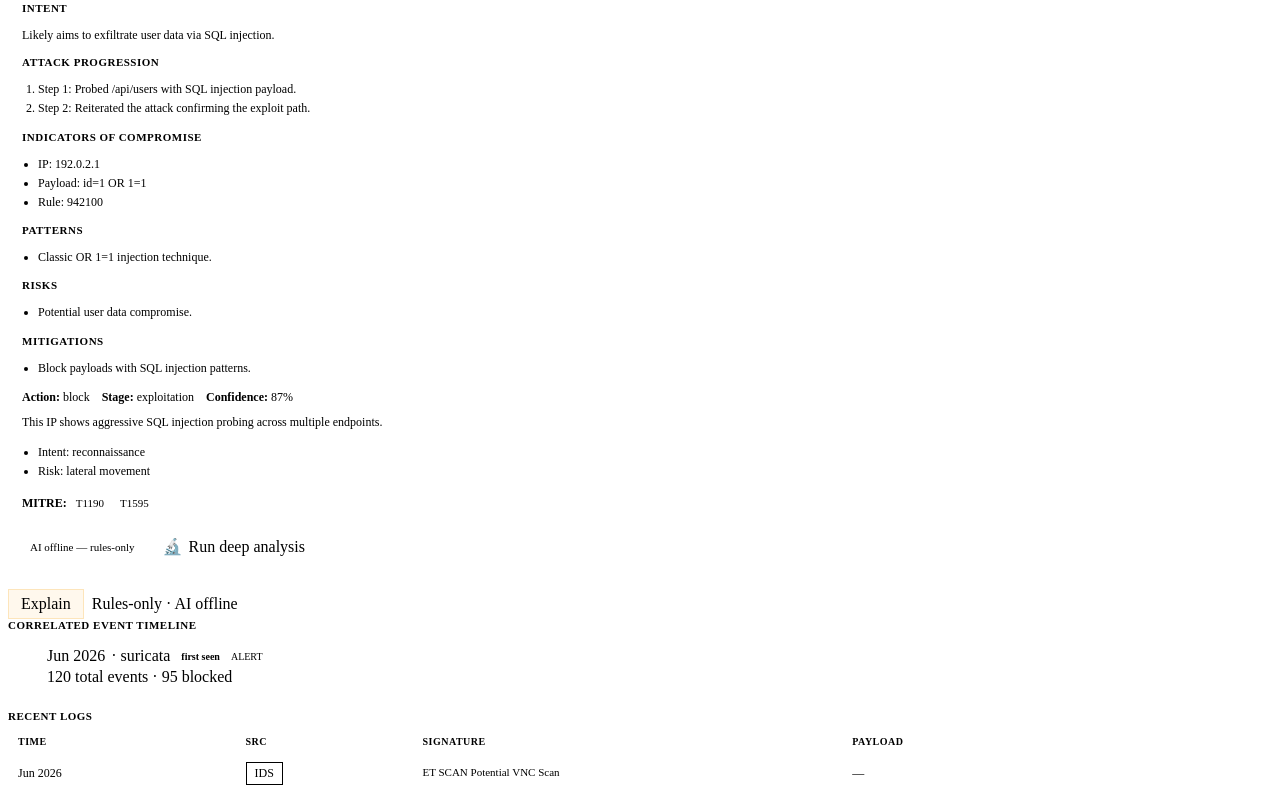
Scenario: IpPanel DS restyle › shows anchored RuleCellTooltip (peek) when Signature cell is hovered (#283)
(page scrolled)
Hover over the element with test id "rule-cell-tooltip-trigger" at point(491, 774), box x1=422 y1=767 x2=560 y2=781
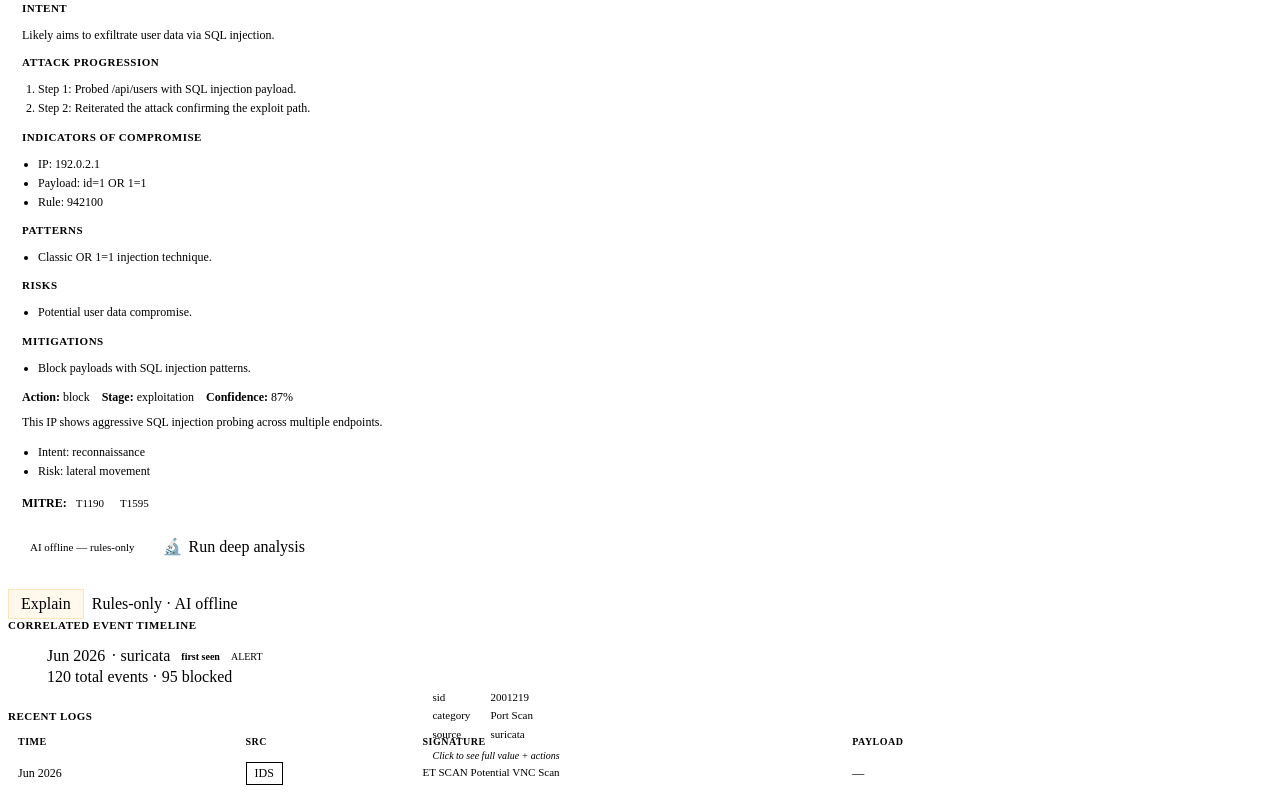
Result: the tooltip with test id "cell-tooltip-content" is shown at x1=422 y1=681 x2=570 y2=771
Result: the element with test id "rule-cell-tooltip-content" shows "2001219" at x1=490 y1=691 x2=529 y2=703
